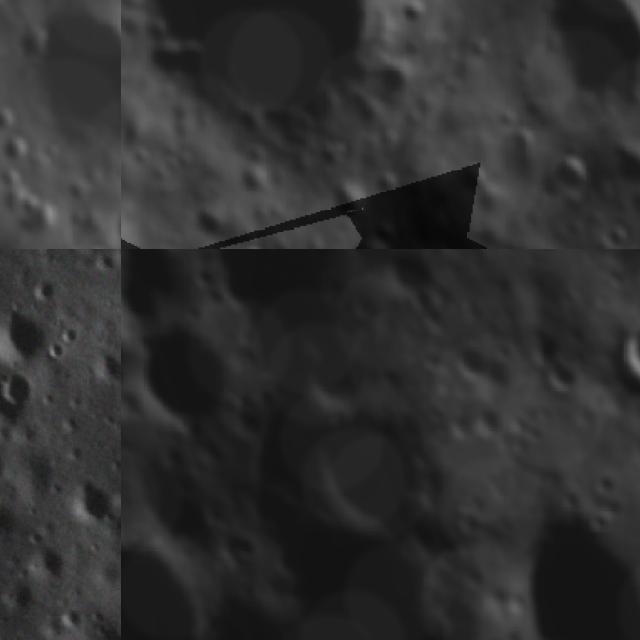crater: (121, 0, 432, 187), (290, 369, 478, 573), (480, 498, 640, 640), (122, 426, 239, 576), (121, 312, 247, 446), (121, 513, 229, 640), (34, 0, 121, 143), (538, 0, 640, 114), (512, 308, 596, 419), (0, 172, 121, 249), (121, 249, 205, 335), (0, 291, 69, 394), (588, 299, 640, 422), (13, 530, 89, 605), (52, 464, 121, 544), (369, 249, 443, 310), (0, 361, 52, 436), (444, 331, 503, 394), (540, 145, 598, 204), (323, 172, 379, 232), (5, 186, 60, 238), (466, 178, 516, 225), (372, 58, 418, 109), (517, 89, 562, 138), (186, 204, 233, 248), (368, 160, 408, 203), (609, 139, 640, 193), (452, 156, 493, 196), (504, 121, 544, 162), (595, 215, 635, 249), (0, 129, 34, 165), (349, 230, 409, 249), (621, 186, 640, 229), (0, 101, 15, 133), (227, 239, 274, 249)
